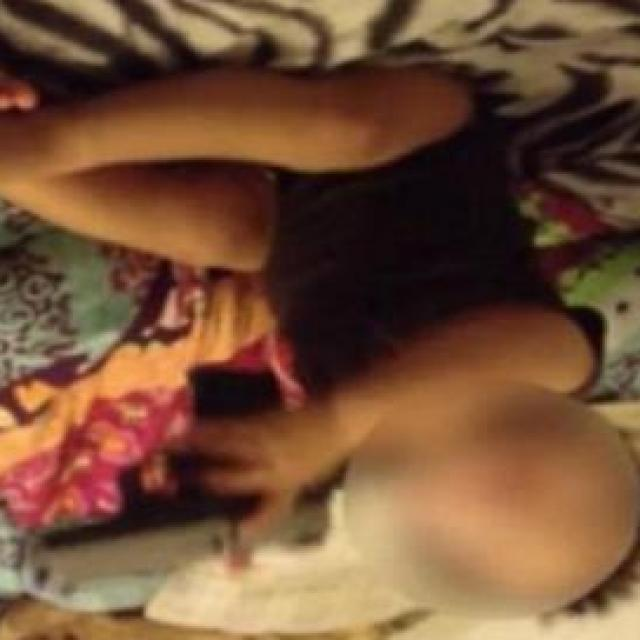pistol: (29, 361, 330, 591)
